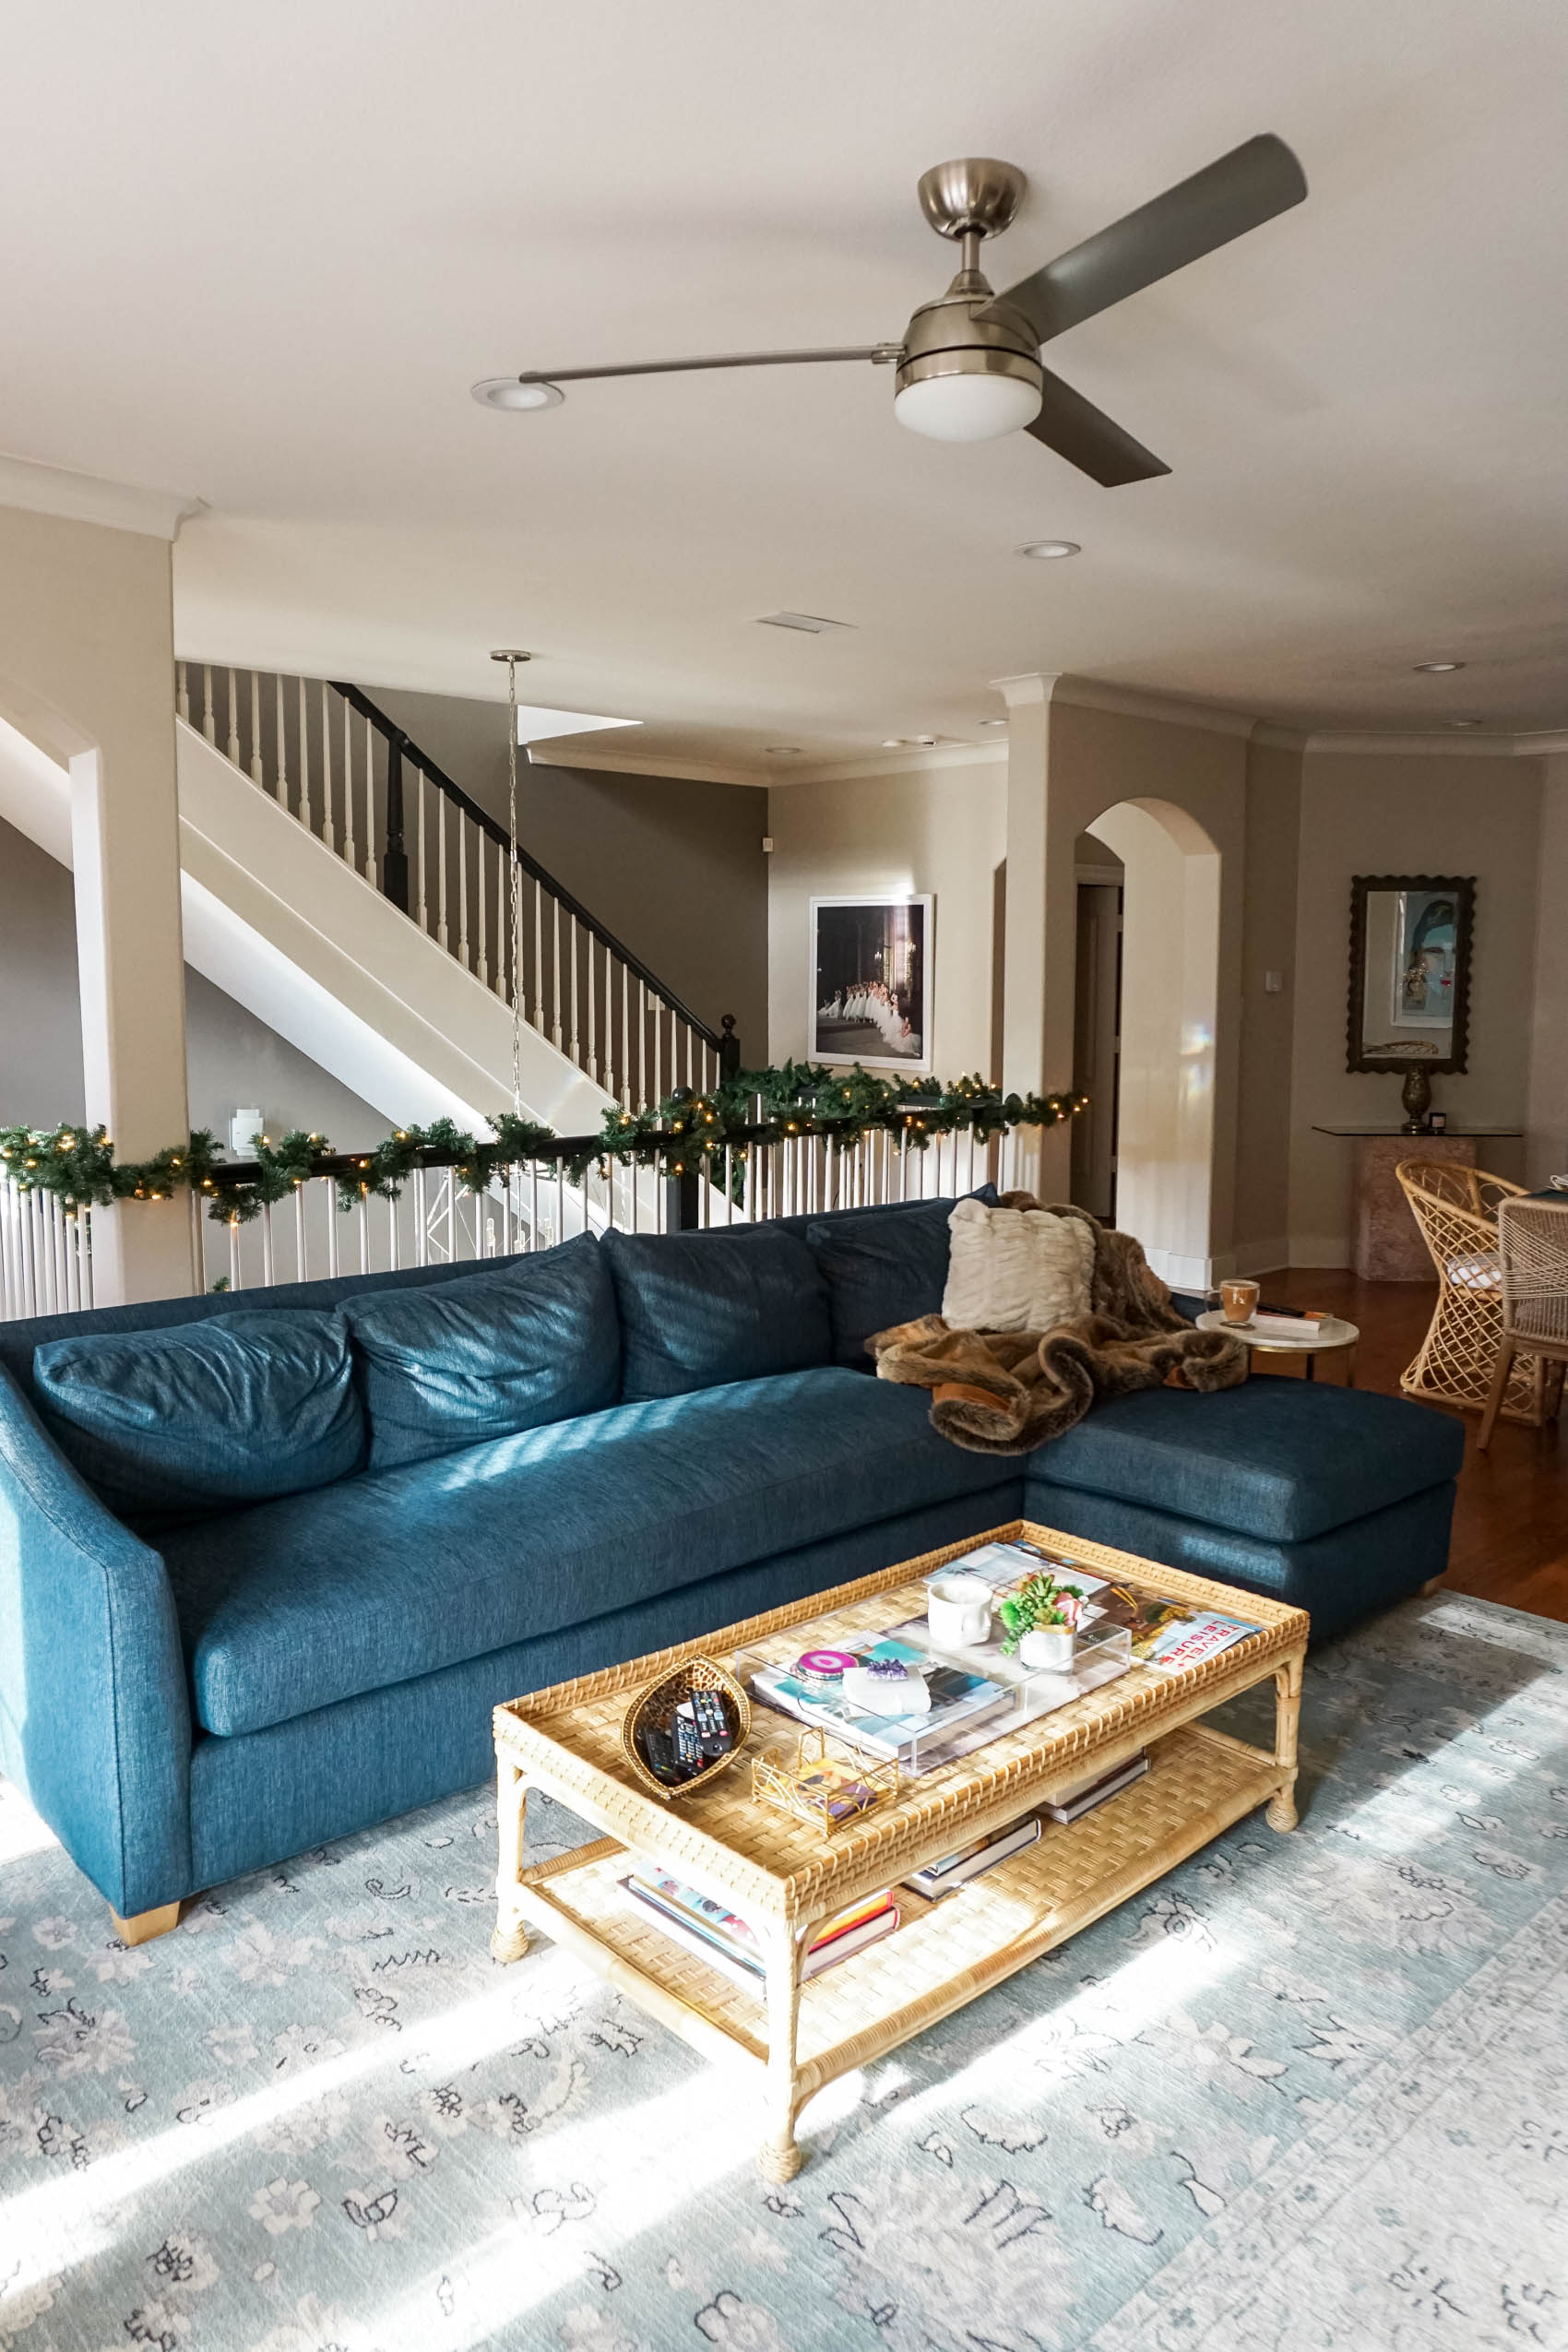biru: (2, 1244, 940, 1783)
putih: (950, 1207, 1097, 1332), (924, 1571, 996, 1643)
